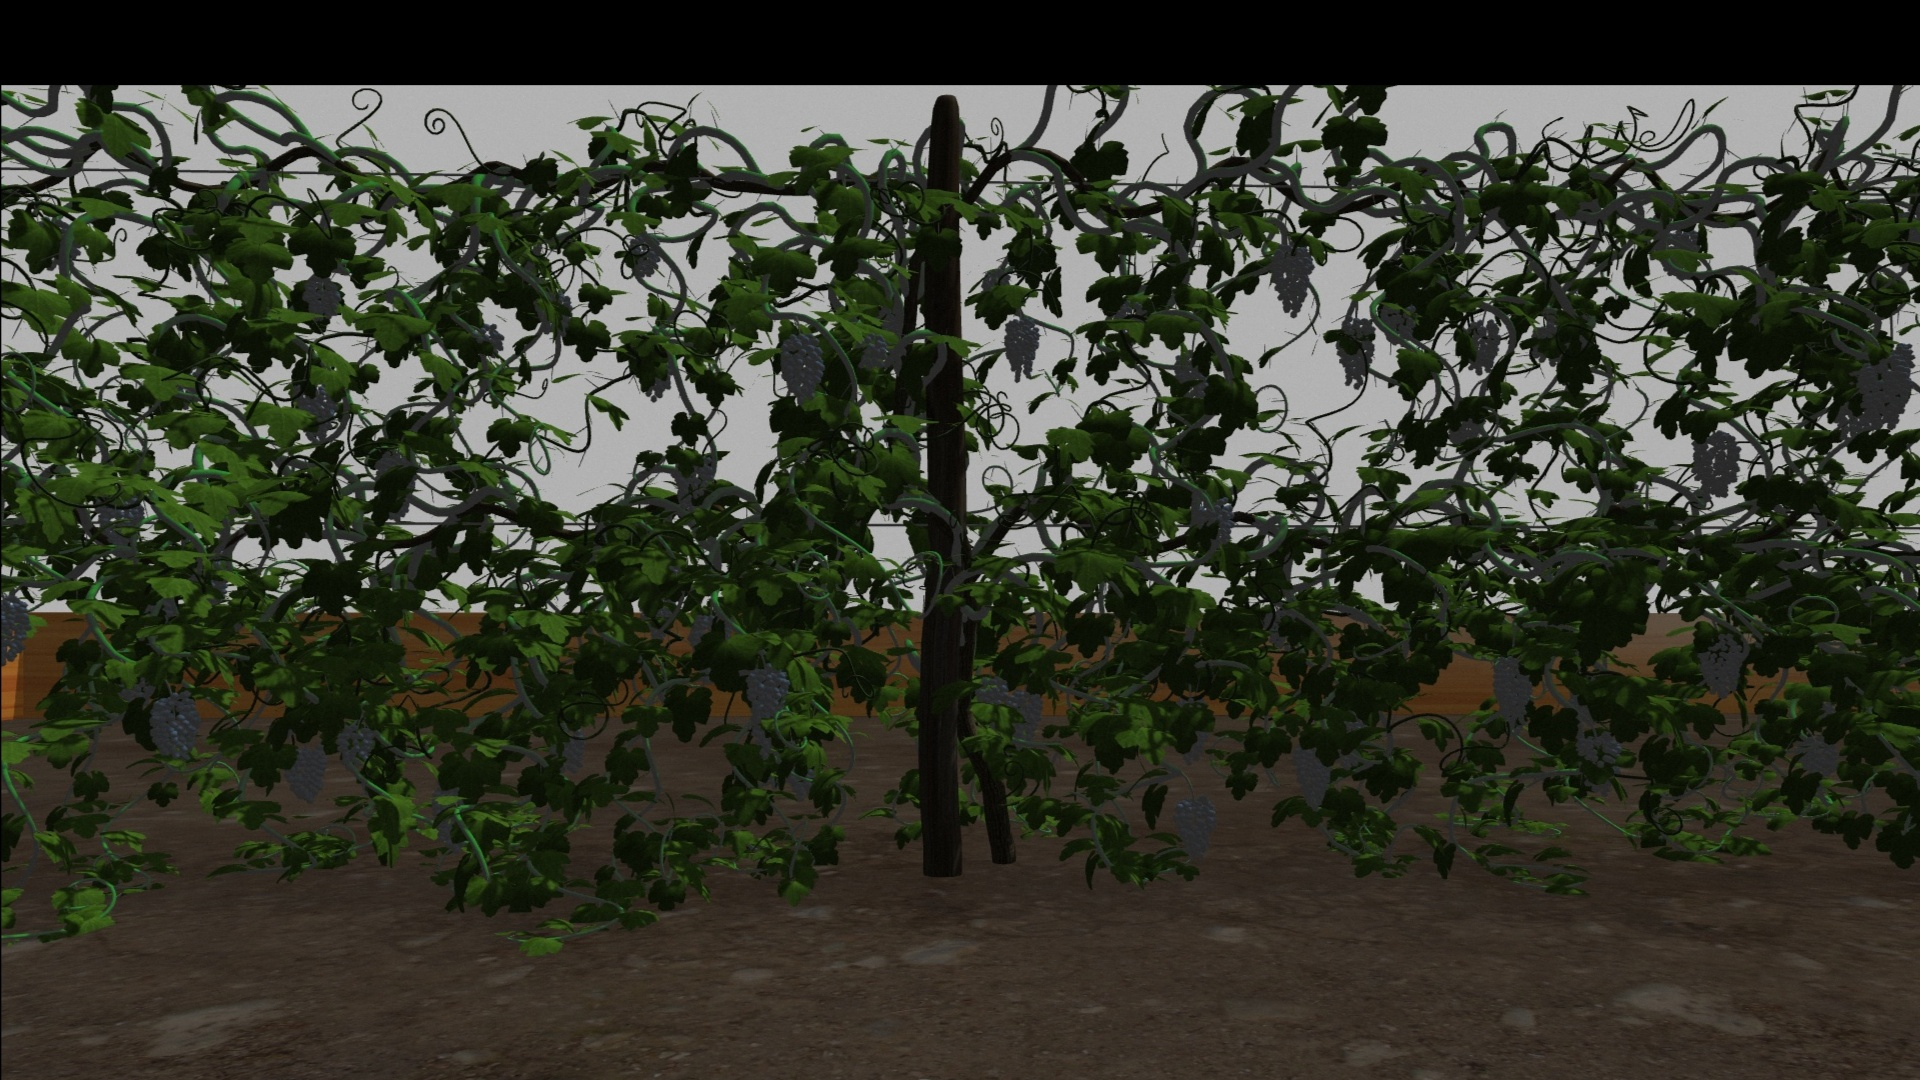grape: (1857, 340, 1915, 429), (745, 665, 790, 760), (148, 690, 200, 766), (1491, 653, 1535, 737), (1267, 244, 1317, 316), (1689, 431, 1742, 498), (778, 332, 825, 404), (1698, 634, 1750, 698), (94, 491, 145, 550), (1335, 315, 1375, 389), (1174, 796, 1217, 862), (284, 742, 327, 804), (1189, 495, 1236, 553), (1292, 746, 1332, 812), (1002, 316, 1040, 382), (1796, 731, 1842, 781), (1461, 319, 1502, 373), (4, 597, 34, 666), (1007, 688, 1043, 742), (1575, 731, 1623, 769), (335, 724, 376, 766), (550, 727, 587, 773), (1377, 305, 1418, 345), (302, 276, 340, 319), (628, 236, 659, 278), (855, 334, 890, 371), (975, 676, 1007, 712)
